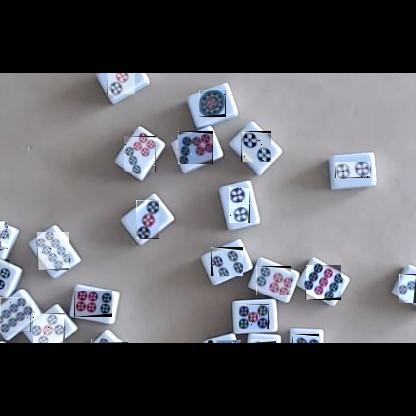1p: (199, 90, 226, 117)
2p: (241, 131, 271, 162), (229, 187, 250, 223), (335, 162, 370, 178)
3p: (136, 200, 159, 239), (107, 73, 135, 95), (208, 340, 241, 343)
4p: (211, 247, 243, 276), (250, 339, 276, 343)
5p: (33, 313, 65, 343), (239, 304, 269, 329), (0, 260, 10, 290), (292, 334, 319, 343)
6p: (256, 266, 291, 295), (74, 291, 112, 317)
7p: (178, 131, 213, 164), (124, 136, 156, 172), (399, 274, 416, 303)
8p: (37, 232, 69, 270), (0, 297, 31, 332), (0, 221, 8, 249), (91, 339, 128, 343)
9p: (305, 265, 341, 300)
